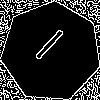I: (26, 27, 67, 70)
